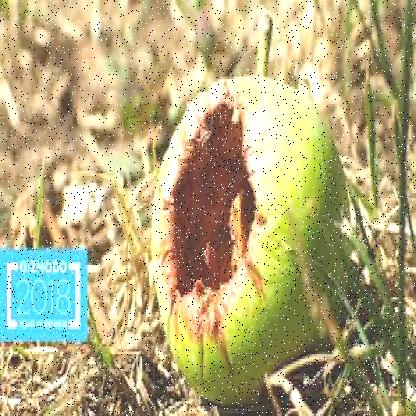damaged_apple: (153, 80, 348, 394)
